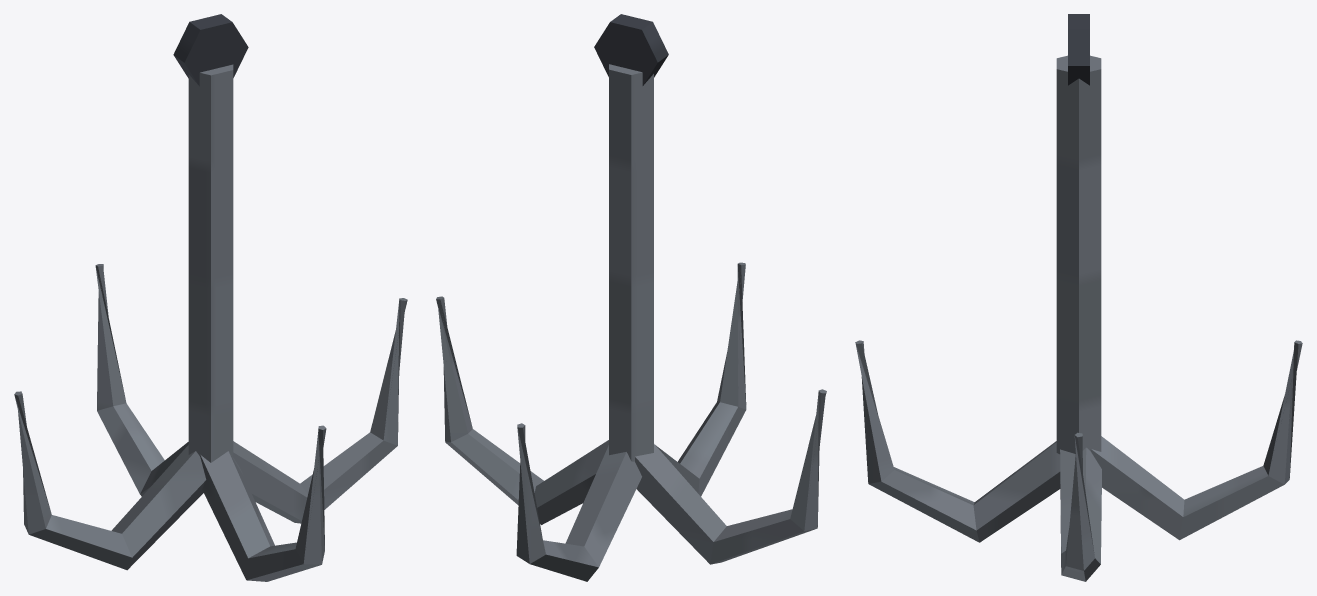
The model's file is SM_Prop_GrapplingHook_HQ.glb.
3 views of the same model, side by side, from view 1: azimuth 30°, elevation 25°; view 2: azimuth 150°, elevation 25°; view 3: azimuth 270°, elevation 25° (orthographic).
Visible parts, largest first — view 1: SM_Prop_GrapplingHook_HQ; view 2: SM_Prop_GrapplingHook_HQ; view 3: SM_Prop_GrapplingHook_HQ.
Boxes of the visible parts, box(x1,y1,x2,y2) form: SM_Prop_GrapplingHook_HQ: box(14, 14, 407, 581); SM_Prop_GrapplingHook_HQ: box(436, 14, 826, 581); SM_Prop_GrapplingHook_HQ: box(855, 14, 1302, 581).
Bounding box in the file's own units: 0.6113 × 0.7815 × 0.6113.
1 material, 1 textured.
